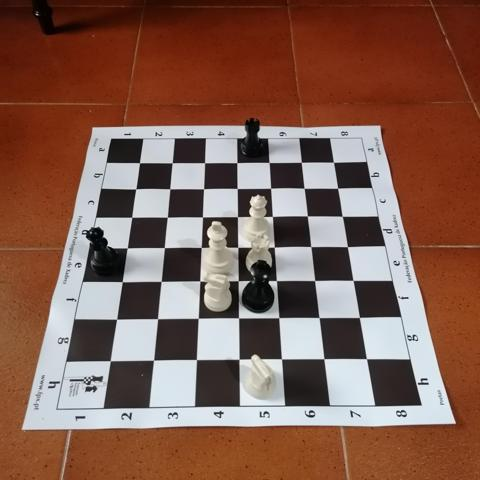xcorner: (302, 209, 318, 225), (103, 355, 119, 371), (328, 155, 344, 170), (197, 155, 213, 170), (196, 181, 212, 196), (128, 181, 143, 197), (195, 210, 211, 225), (194, 241, 210, 256), (271, 275, 287, 290), (232, 275, 248, 290), (193, 275, 208, 291), (114, 276, 130, 291), (151, 313, 166, 329), (190, 355, 206, 370), (296, 155, 311, 170), (263, 155, 278, 170), (230, 155, 245, 170), (164, 155, 179, 170), (131, 155, 146, 170), (333, 181, 348, 196), (299, 181, 314, 196), (265, 181, 280, 196), (231, 181, 246, 196), (162, 181, 177, 196), (338, 209, 353, 224), (267, 210, 282, 225), (231, 210, 246, 225), (160, 210, 175, 225), (124, 210, 139, 225), (343, 240, 358, 255), (306, 241, 321, 256), (269, 241, 284, 256), (232, 241, 247, 256), (157, 241, 172, 256), (119, 242, 134, 257), (349, 274, 364, 289), (310, 275, 325, 290), (154, 276, 169, 291), (355, 312, 370, 327), (315, 312, 330, 327), (274, 312, 289, 327), (233, 313, 248, 328), (192, 313, 207, 328), (109, 314, 124, 329), (362, 353, 377, 368), (320, 353, 335, 368), (277, 354, 292, 369), (234, 354, 249, 369), (147, 355, 162, 370)
